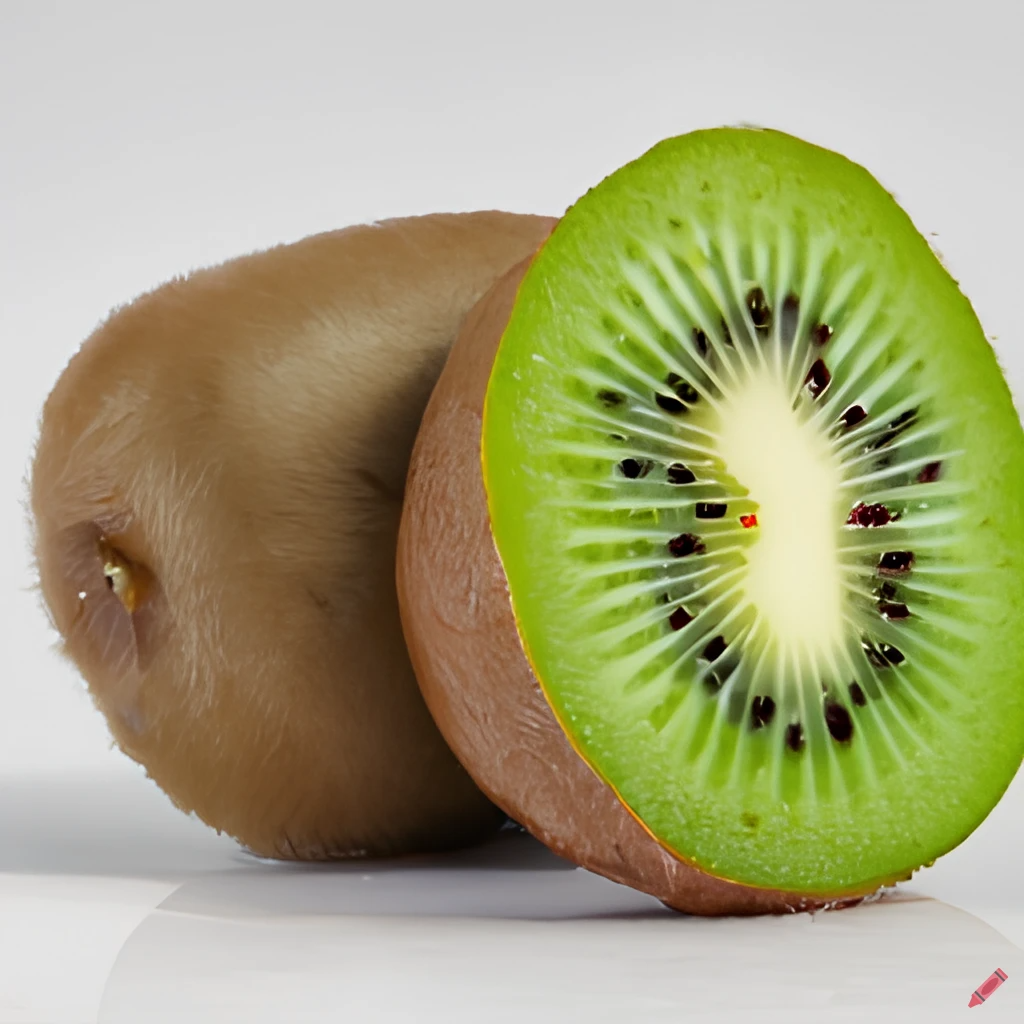Kiwi: (390, 107, 1024, 918)
